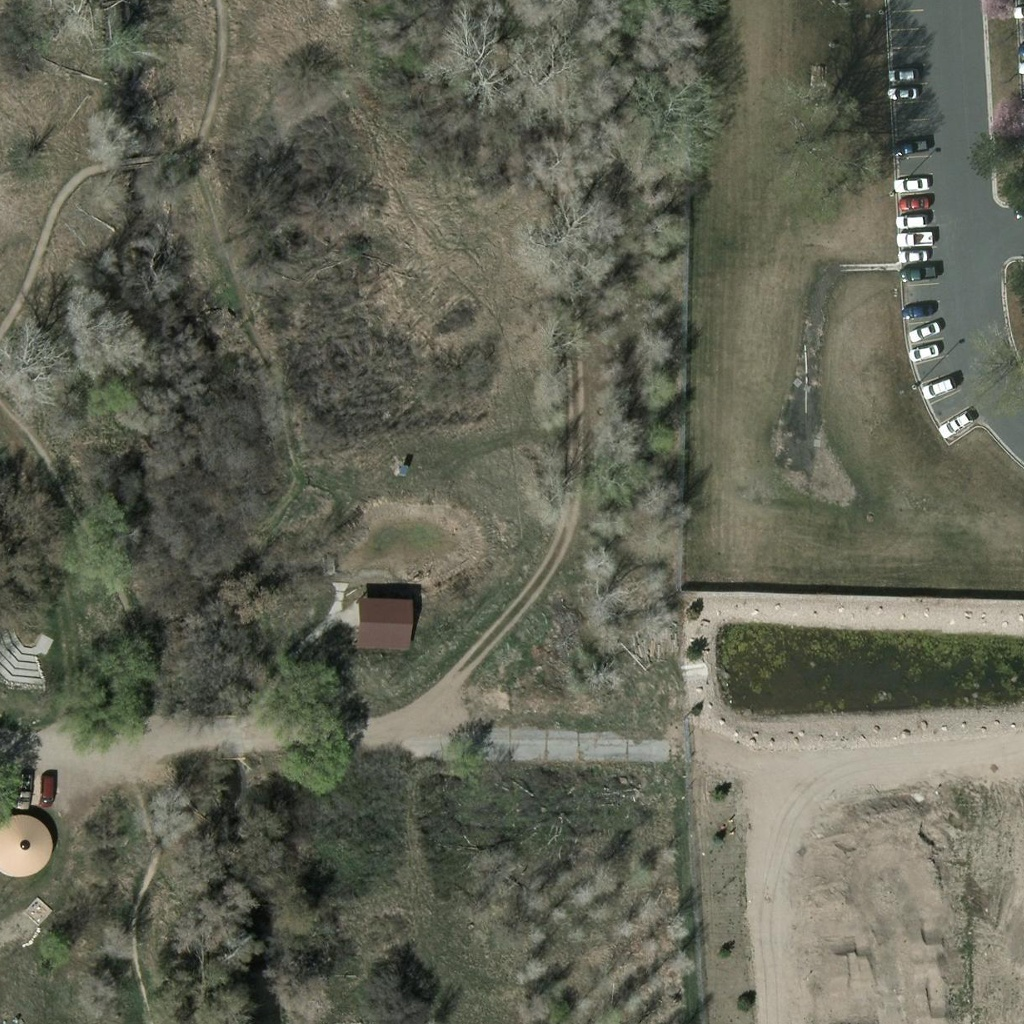car: (939, 411, 971, 440), (894, 135, 928, 155), (894, 174, 928, 194), (898, 191, 932, 211), (894, 210, 928, 230), (897, 247, 931, 267), (900, 300, 934, 320), (907, 321, 941, 341), (908, 342, 942, 362), (16, 775, 32, 810), (41, 772, 57, 807), (887, 87, 917, 101), (888, 70, 915, 82)
pickup: (897, 229, 931, 249), (901, 263, 935, 283)
van: (923, 378, 957, 398)
